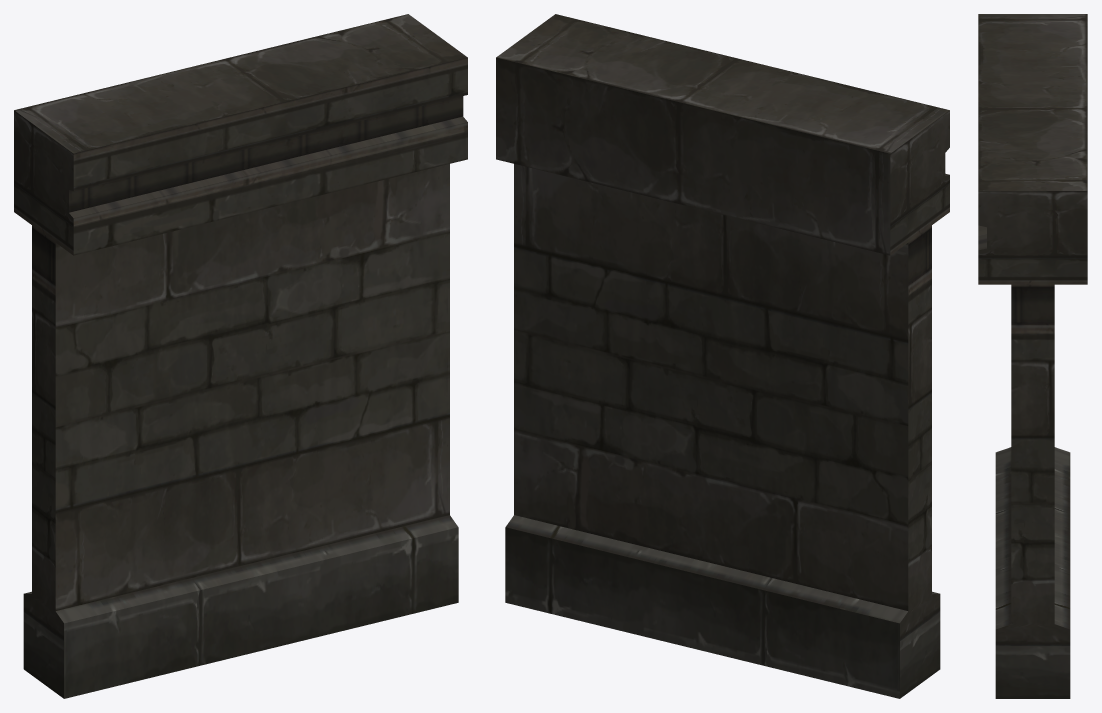
The model's file is sewer_wall008.FBX.
3 renders of one model, left to right at view 1: azimuth 30°, elevation 25°; view 2: azimuth 150°, elevation 25°; view 3: azimuth 270°, elevation 25°, orthographic. The views are drawn at different scales.
Parts seen in each view (by area): view 1: sewer_wall008; view 2: sewer_wall008; view 3: sewer_wall008.
Part boxes in pixels (x1,y1,x2,y2): sewer_wall008: (14,14,467,698); sewer_wall008: (496,14,949,698); sewer_wall008: (978,14,1087,698).
Size of the model in its own units: 398 by 533 by 104.
